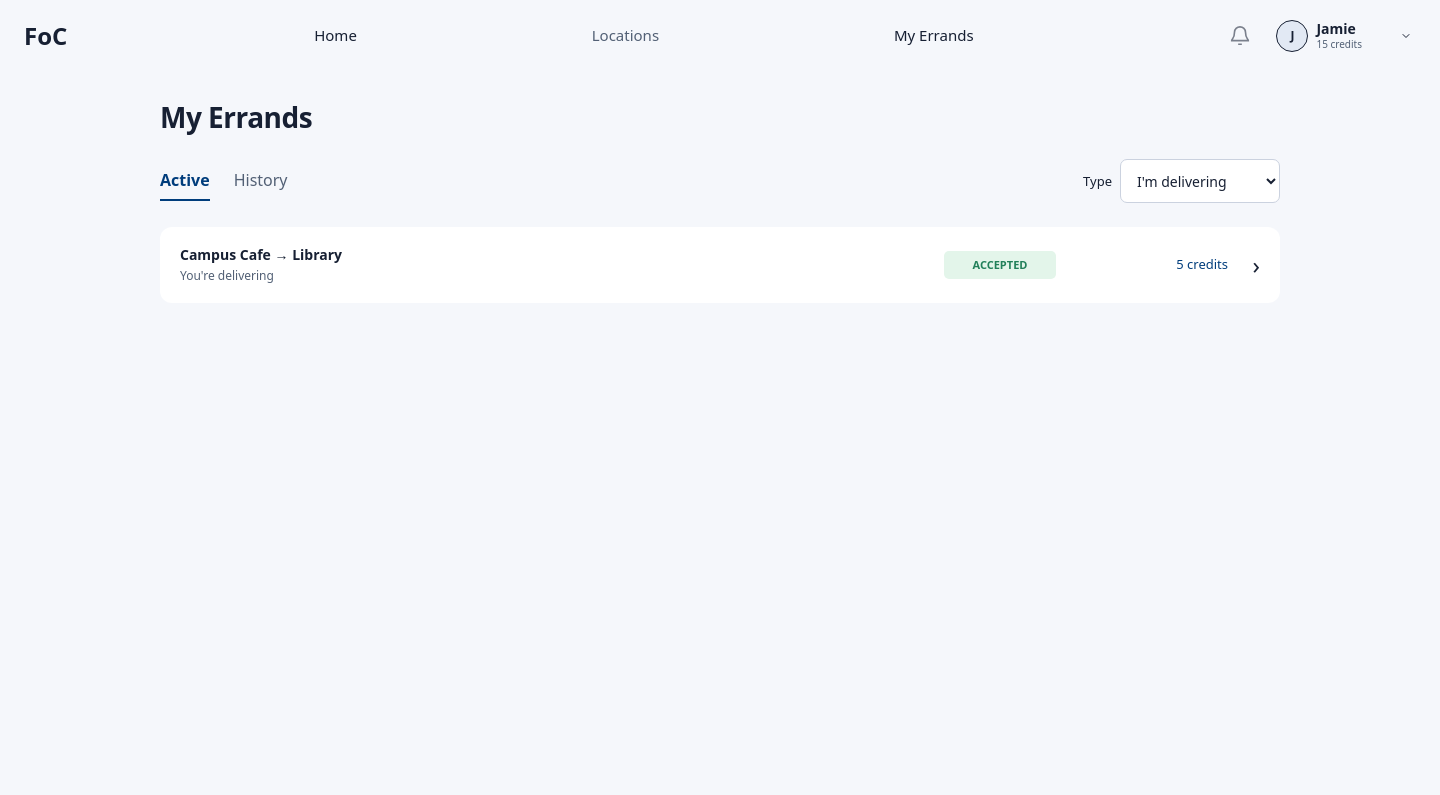
Test case: refreshes after a lost pickup response without automatically submitting again
The image size is (1440, 795).
Click the link "Campus Cafe → Library You're delivering ACCEPTED 5 credits ›" at (225, 254), box [160,227,1280,303]
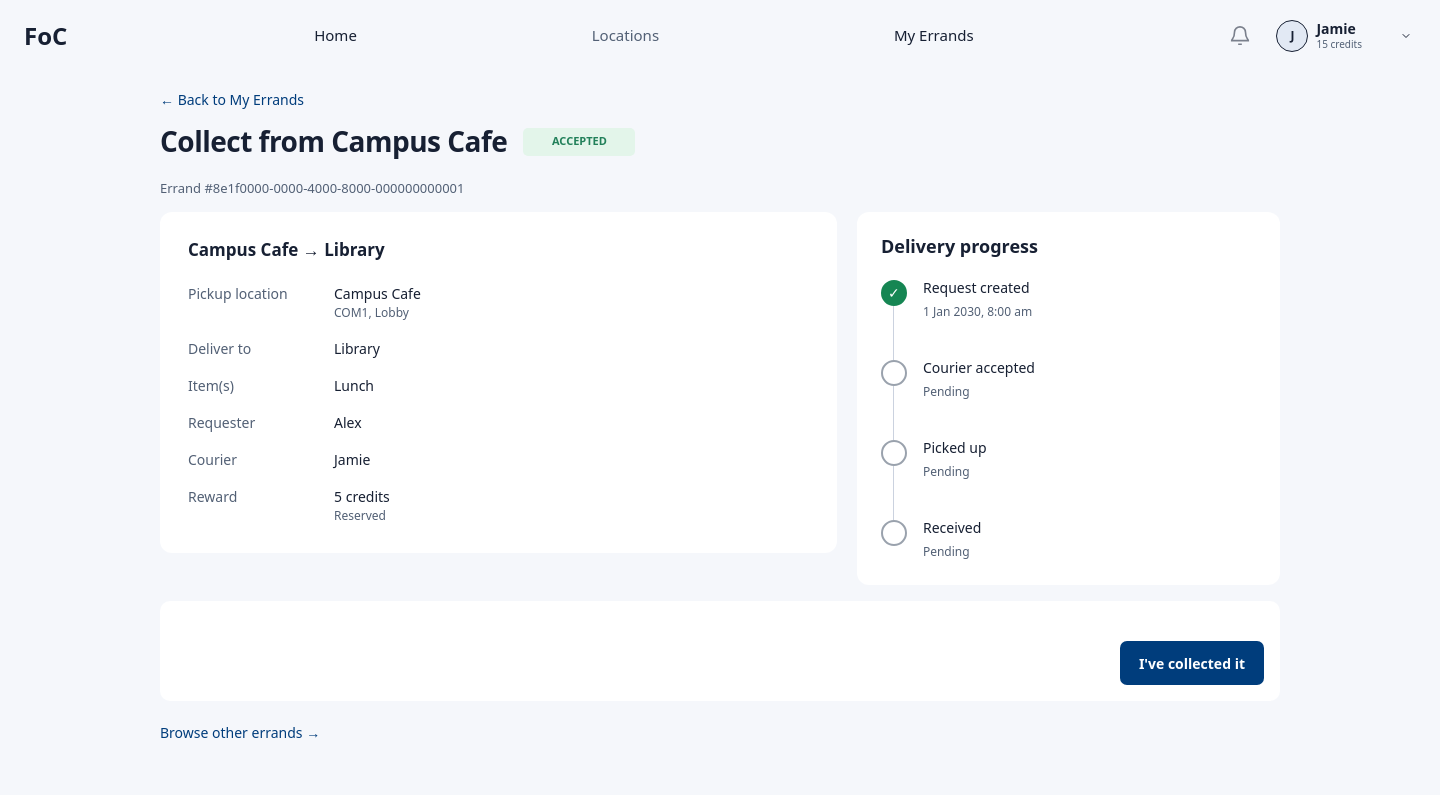
Expected: the text "COM1, Lobby" is shown, [334,304,409,321]
Click the button "I've collected it" at (1192, 663), box [1120,641,1264,685]
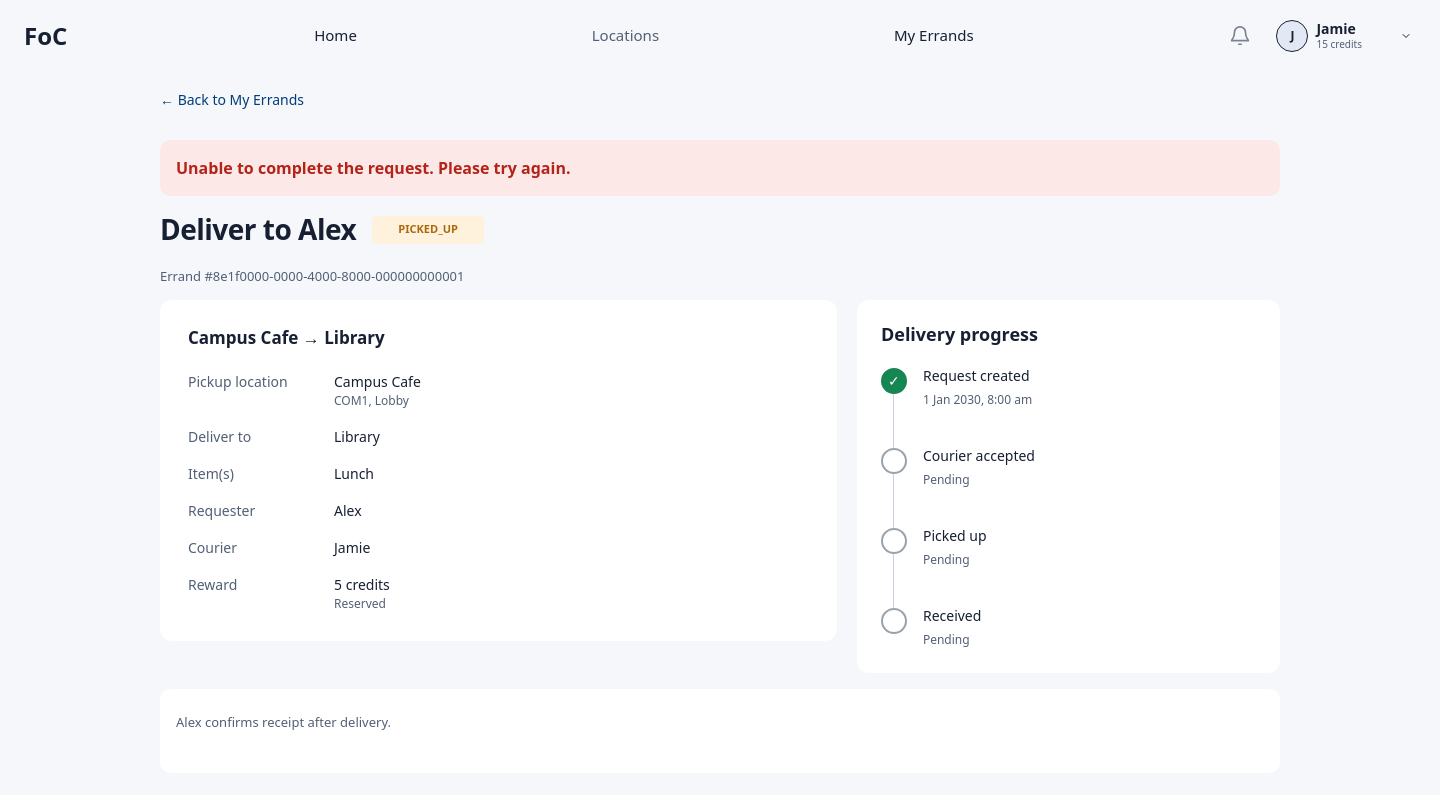
Expected: the message "Unable to complete the request. Please try again." is shown, [160,140,1280,196]
Expected: the button "I've collected it" is gone
